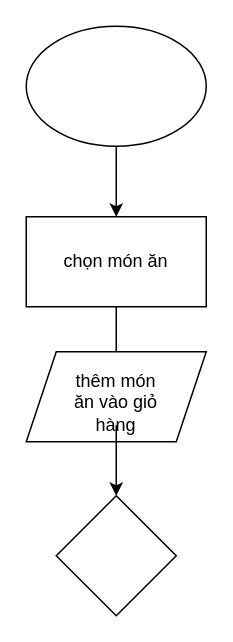
Image size: 233x642. Some labels were removed from this diagram. Here are the shapes that lost their labels. From the top down, the centre of each, then its label:
the point at 115,85: start
the point at 115,555: xác nhận món ăn đã chọn
